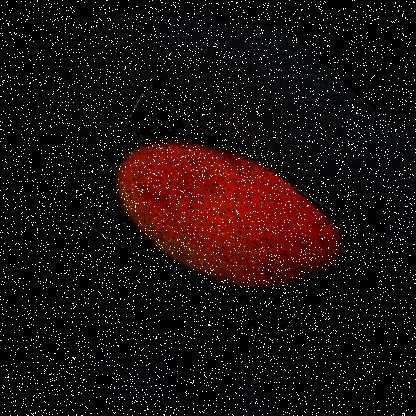mango: (59, 64, 357, 362)
